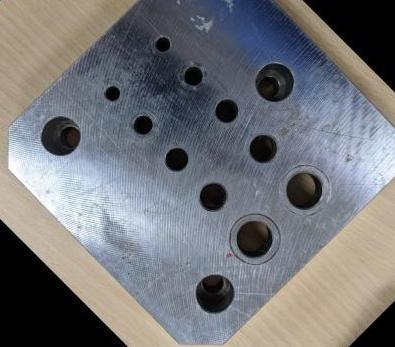hole: (210, 195, 300, 285), (262, 148, 348, 234), (21, 98, 97, 174), (178, 257, 251, 329), (239, 46, 310, 117), (234, 119, 292, 177), (185, 168, 242, 225), (164, 48, 221, 105), (200, 86, 251, 136), (151, 133, 201, 183), (117, 100, 166, 149), (88, 71, 134, 117), (140, 23, 183, 66)
